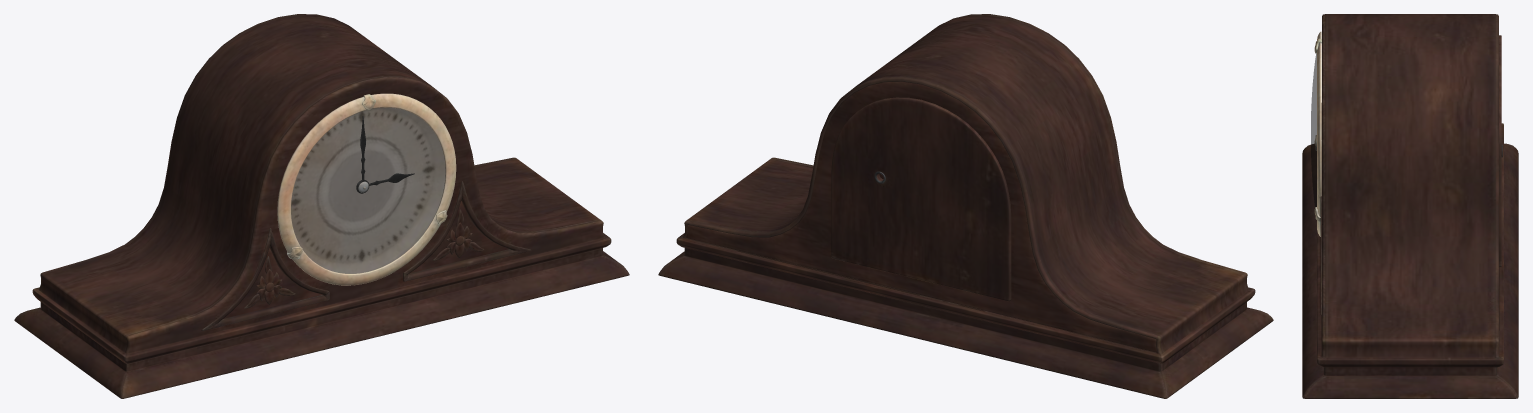
The model's file is ph2_mantel_clock_01.glb.
The picture shows the model from 3 angles, left to right: view 1: azimuth 30°, elevation 25°; view 2: azimuth 150°, elevation 25°; view 3: azimuth 270°, elevation 25°; orthographic projection.
Bounding box in the file's own units: 0.3423 × 0.1605 × 0.1262.
2 materials, 2 textured.
